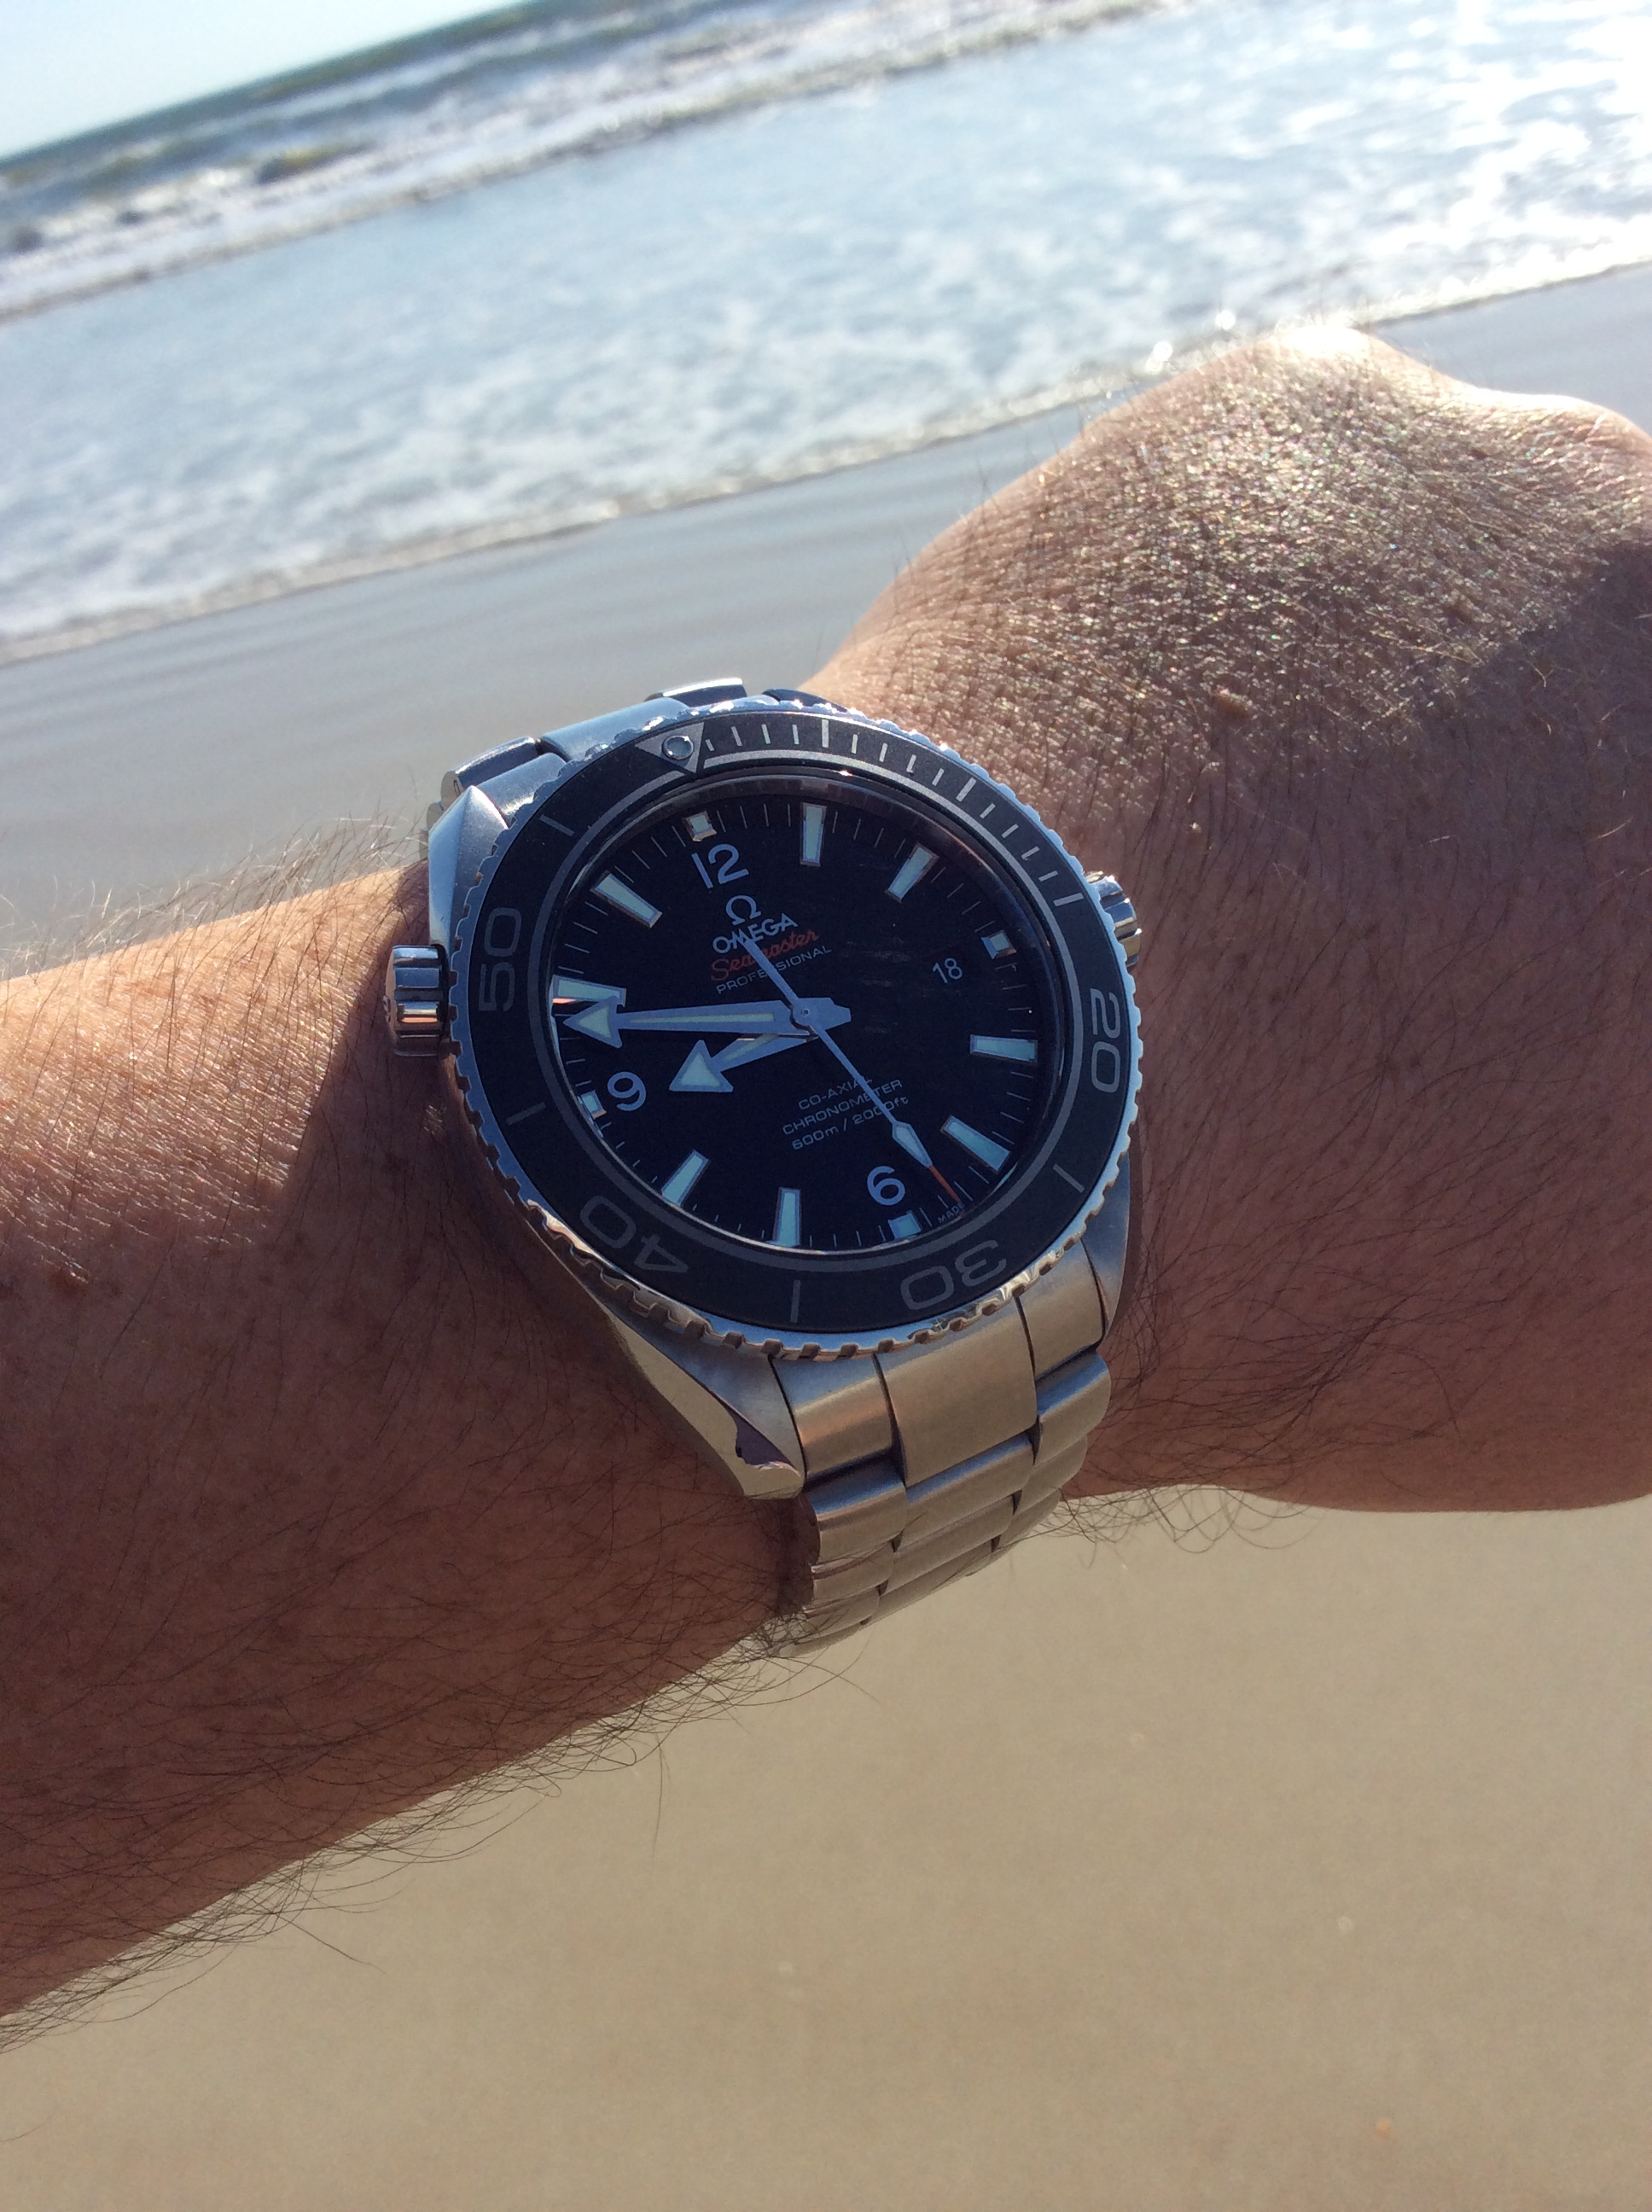clock: (455, 708, 1149, 1365)
